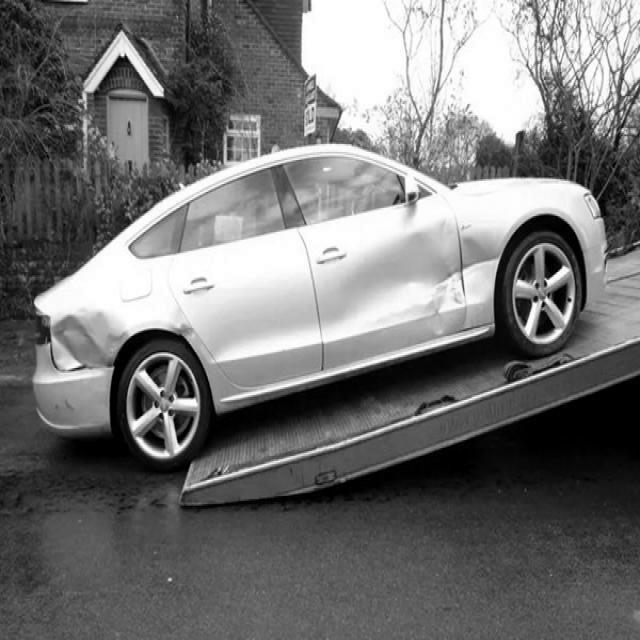doorouter-dent: (307, 192, 467, 357)
fender-dent: (459, 182, 553, 331)
quaterpanel-dent: (52, 261, 185, 368)
